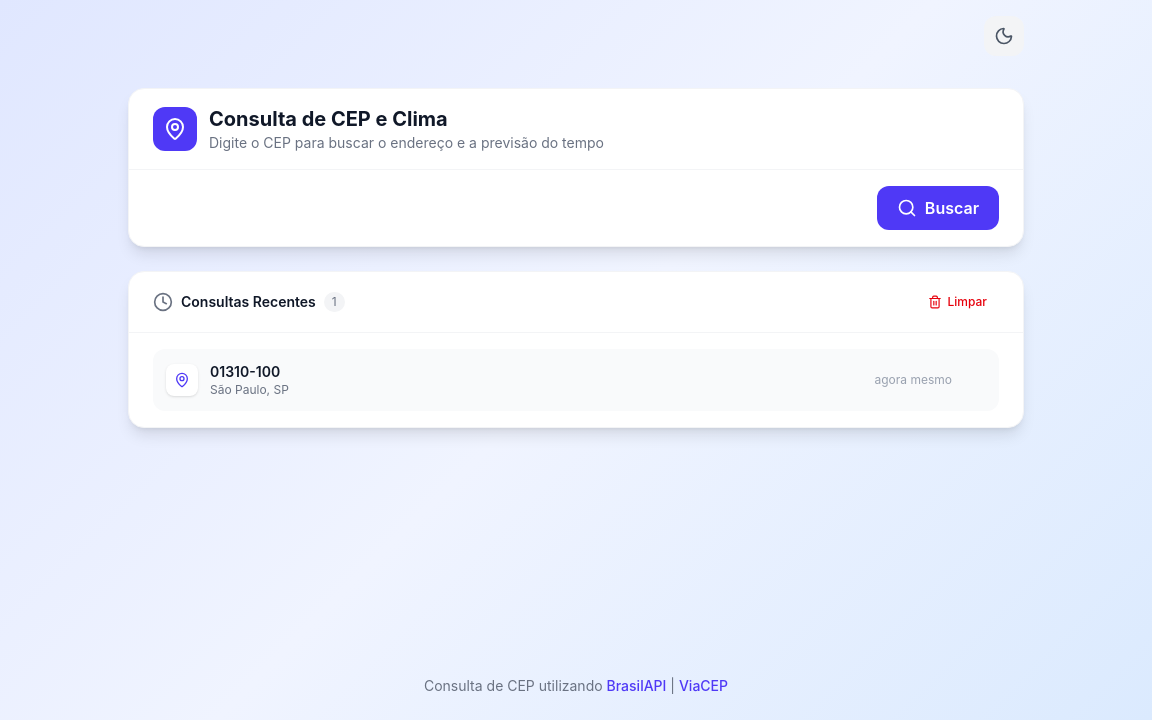
Test: CEP Flow Integration › should clear history
This screenshot has width=1152, height=720.
Expected: the heading "Consultas Recentes" is shown, [181, 292, 316, 312]
What coordinates should you click on to do the following:
click the button "Limpar"
I would click on:
 (957, 302)
Its box is [916, 288, 999, 316].
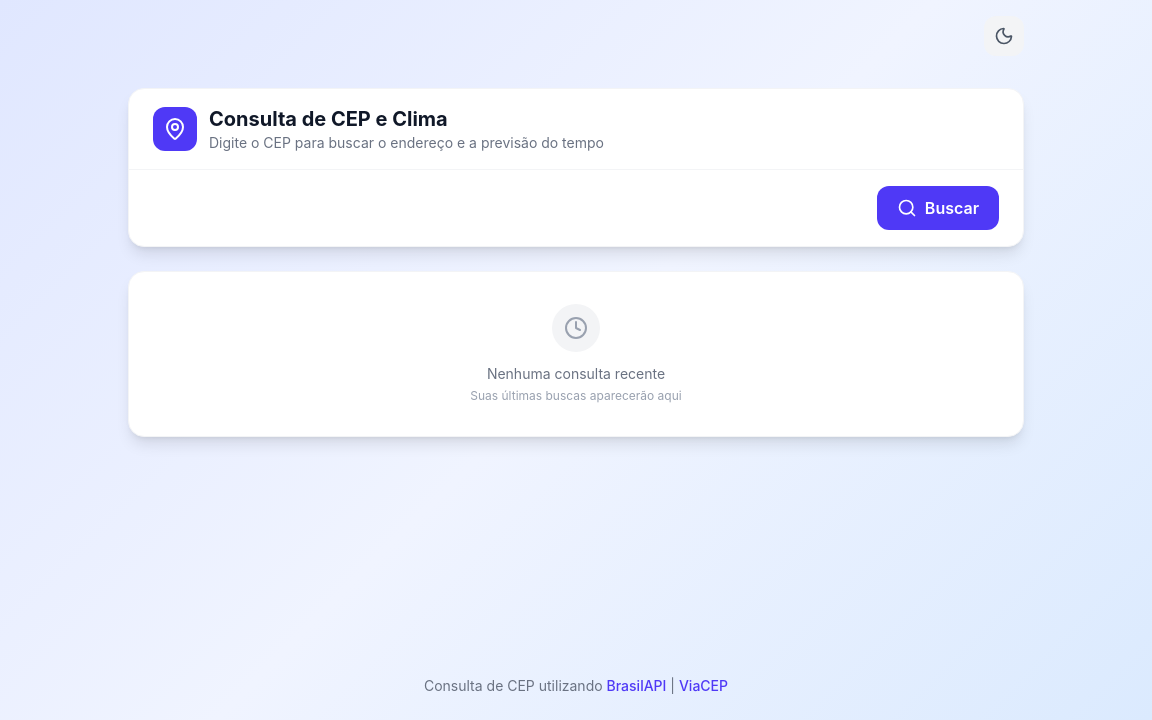
Now the text "Nenhuma consulta recente" is shown, box [487, 364, 665, 384]
